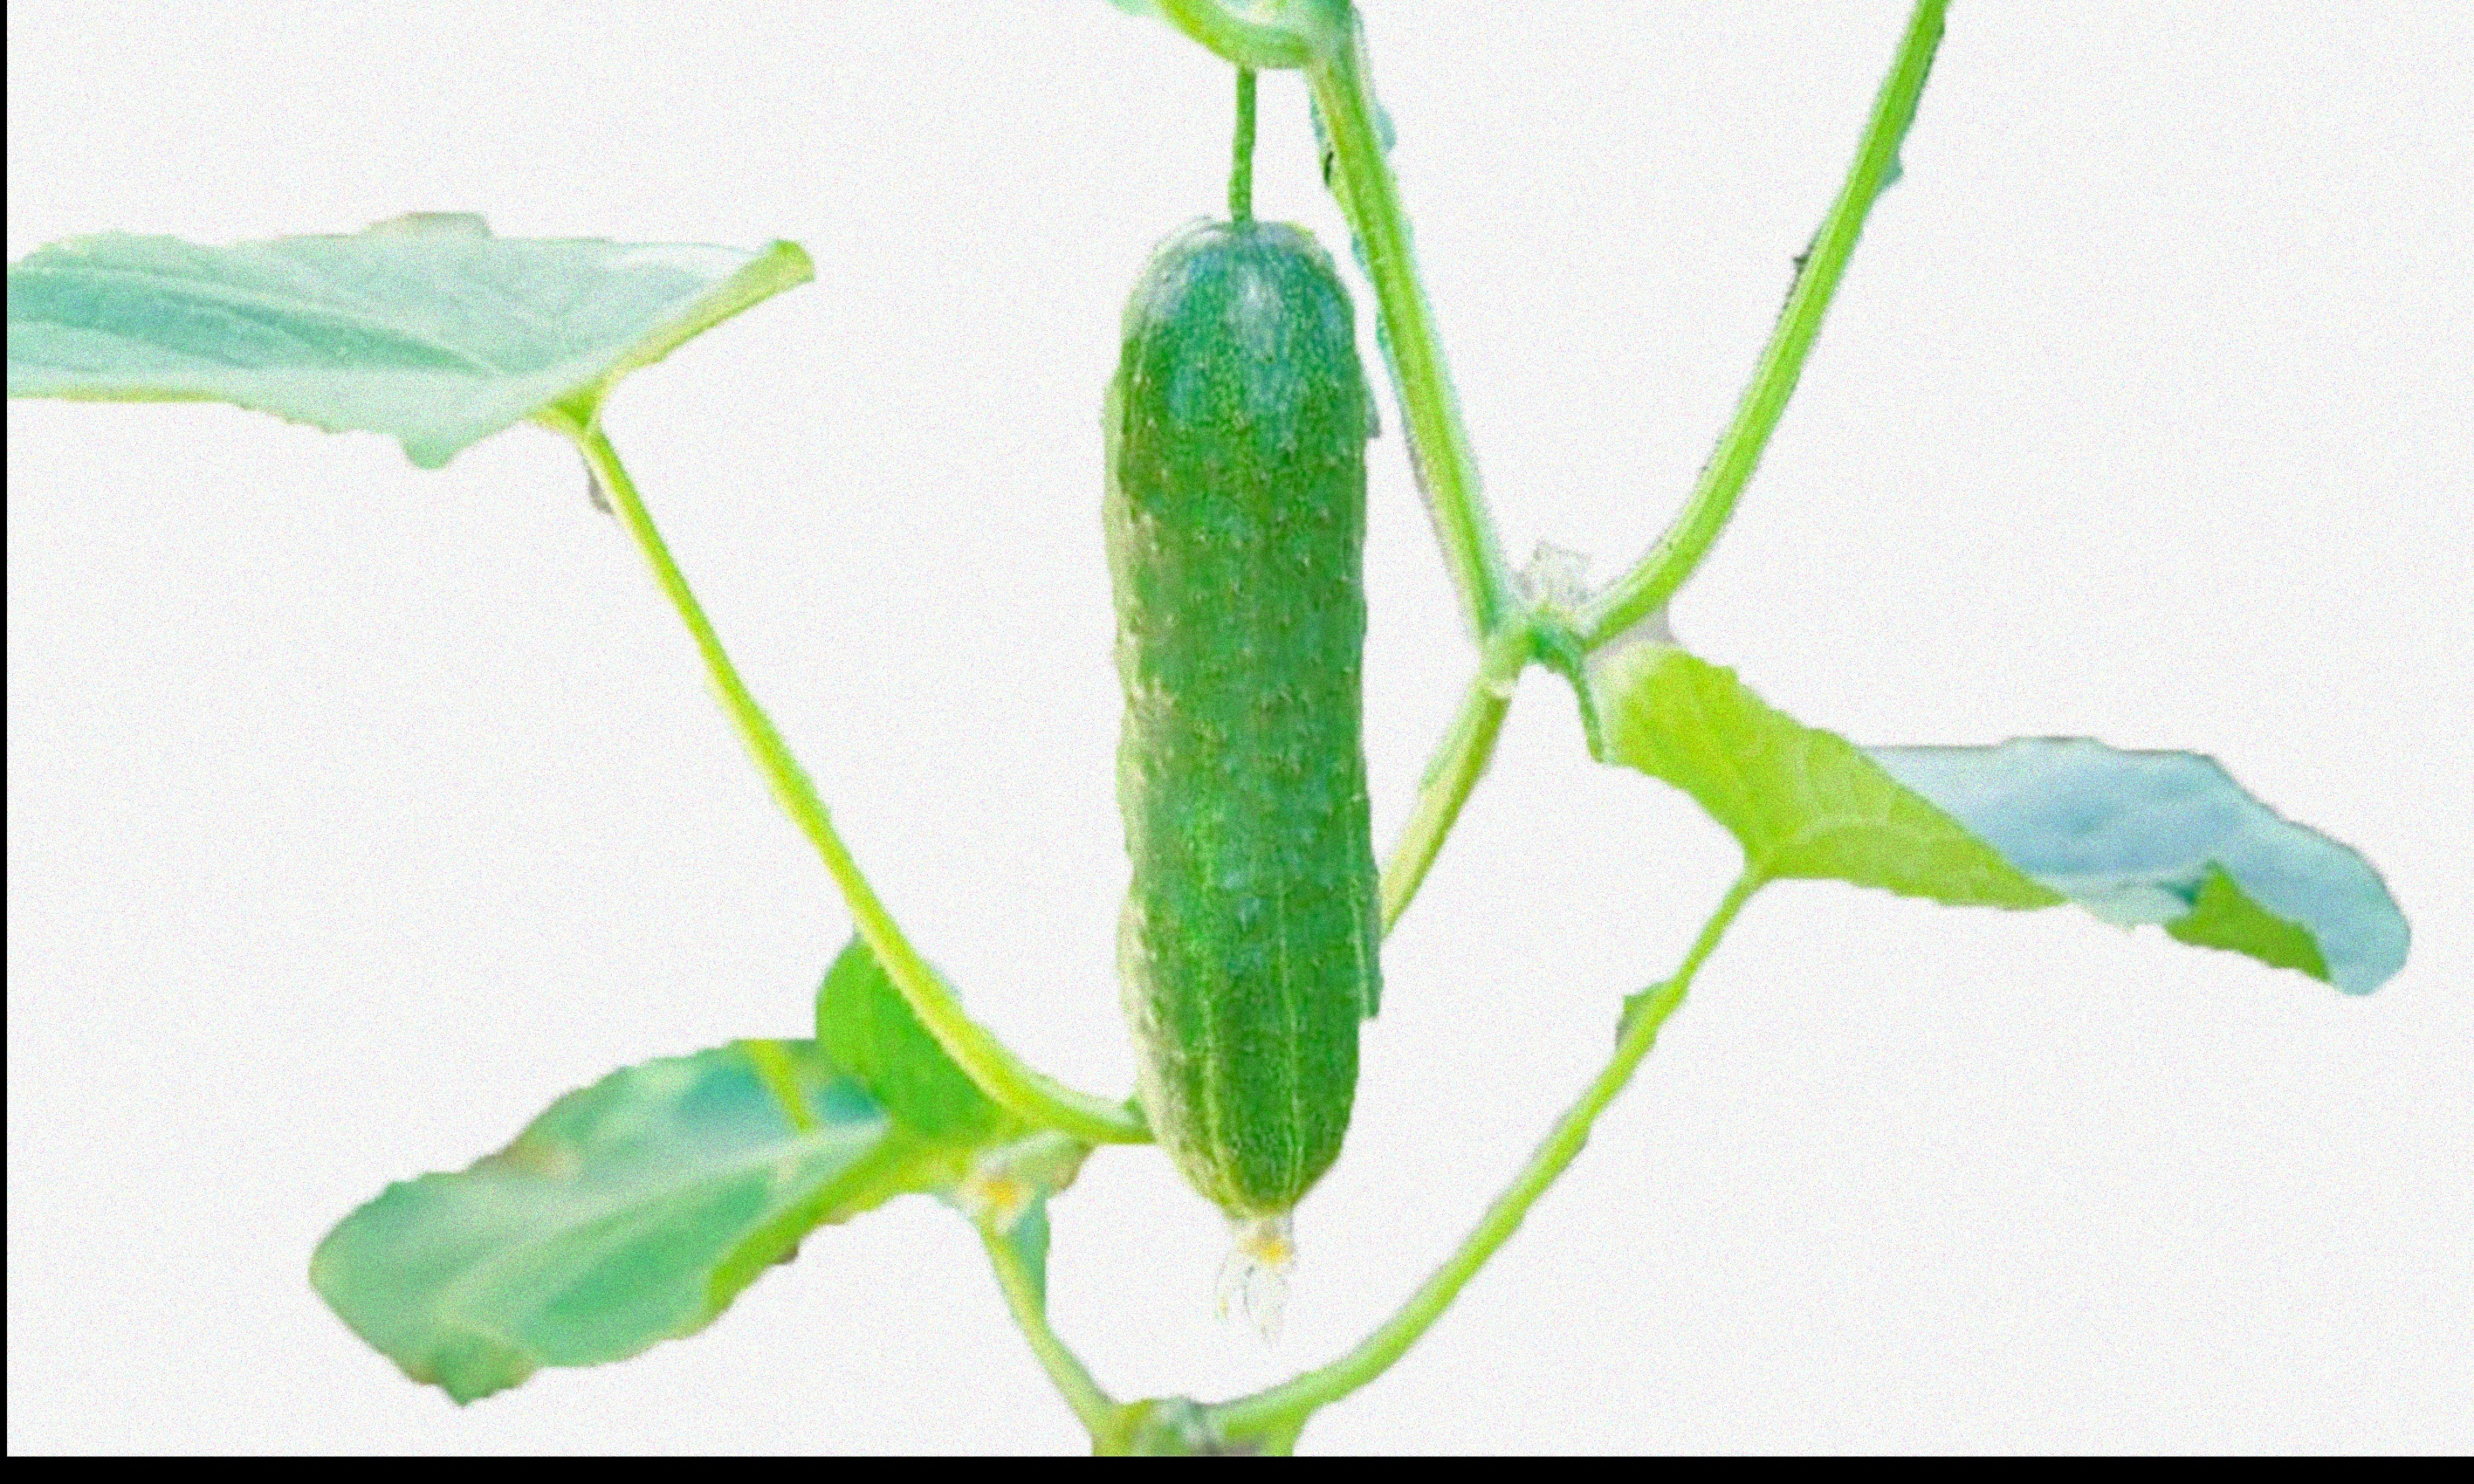corn_plant: (26, 210, 1091, 1436)
cucumber: (1086, 147, 1393, 1251)
cucumber_plant: (1418, 652, 2419, 1383)
